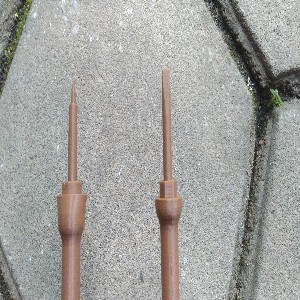obeng: (154, 68, 183, 300)
solder: (56, 77, 89, 300)
